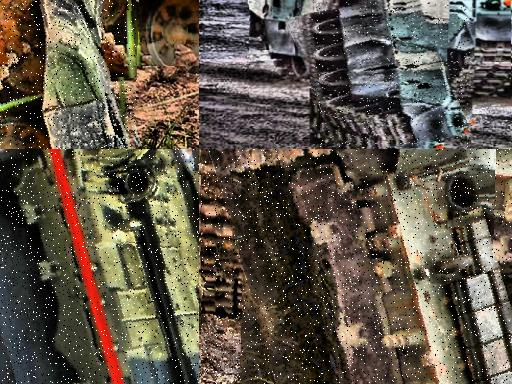tanks: (212, 150, 512, 384), (1, 150, 200, 384), (311, 3, 473, 150), (1, 1, 136, 150)
